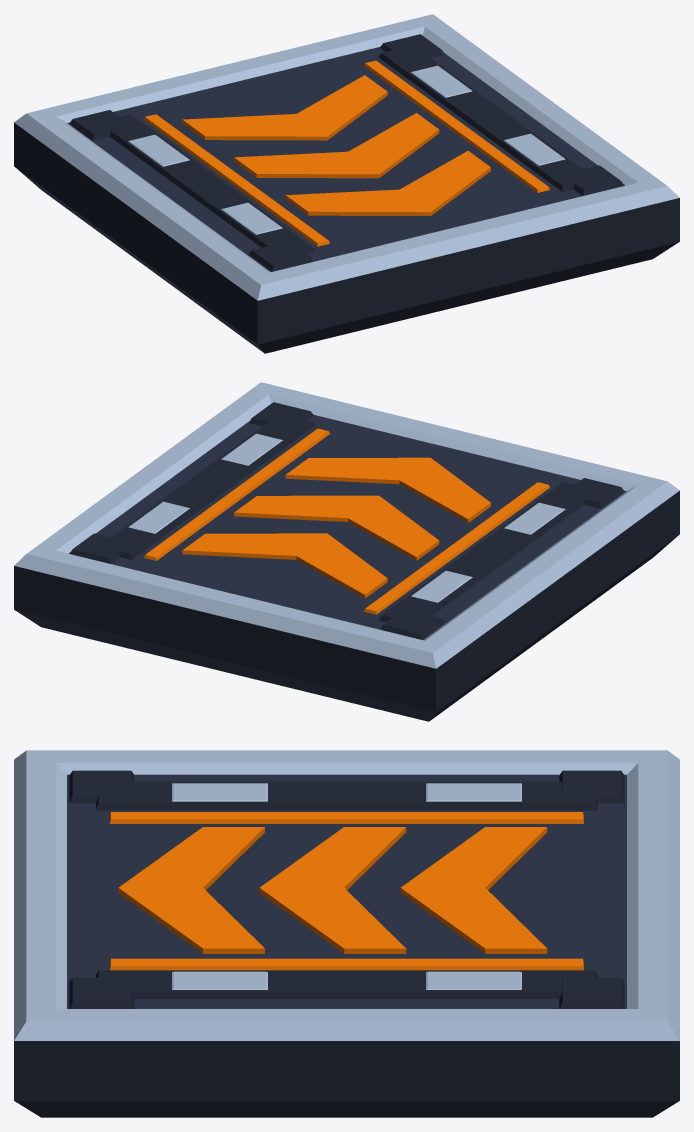
Rendered from SM_ArenaTile_05_BoostRunway.obj.
3 views of the same model, one above another, from view 1: azimuth 30°, elevation 25°; view 2: azimuth 150°, elevation 25°; view 3: azimuth 270°, elevation 25° (orthographic). The views are drawn at different scales.
Parts seen in each view (by area): view 1: SM_ArenaTile_05_BoostRunway__MAT_DarkNeutral, SM_ArenaTile_05_BoostRunway__MAT_LightTrim, SM_ArenaTile_05_BoostRunway__MAT_AltNeutral, SM_ArenaTile_05_BoostRunway__EMI_Kinetic; view 2: SM_ArenaTile_05_BoostRunway__MAT_DarkNeutral, SM_ArenaTile_05_BoostRunway__MAT_LightTrim, SM_ArenaTile_05_BoostRunway__MAT_AltNeutral, SM_ArenaTile_05_BoostRunway__EMI_Kinetic; view 3: SM_ArenaTile_05_BoostRunway__MAT_DarkNeutral, SM_ArenaTile_05_BoostRunway__MAT_LightTrim, SM_ArenaTile_05_BoostRunway__MAT_AltNeutral, SM_ArenaTile_05_BoostRunway__EMI_Kinetic.
Boxes of the visible parts, x1=… form: SM_ArenaTile_05_BoostRunway__MAT_DarkNeutral: x1=14, y1=34, x2=679, y2=353; SM_ArenaTile_05_BoostRunway__MAT_LightTrim: x1=14, y1=14, x2=679, y2=300; SM_ArenaTile_05_BoostRunway__MAT_AltNeutral: x1=67, y1=46, x2=624, y2=271; SM_ArenaTile_05_BoostRunway__EMI_Kinetic: x1=144, y1=60, x2=549, y2=246; SM_ArenaTile_05_BoostRunway__MAT_DarkNeutral: x1=14, y1=402, x2=679, y2=721; SM_ArenaTile_05_BoostRunway__MAT_LightTrim: x1=14, y1=382, x2=679, y2=668; SM_ArenaTile_05_BoostRunway__MAT_AltNeutral: x1=69, y1=414, x2=626, y2=639; SM_ArenaTile_05_BoostRunway__EMI_Kinetic: x1=144, y1=428, x2=549, y2=614; SM_ArenaTile_05_BoostRunway__MAT_DarkNeutral: x1=14, y1=770, x2=679, y2=1117; SM_ArenaTile_05_BoostRunway__MAT_LightTrim: x1=14, y1=750, x2=679, y2=1040; SM_ArenaTile_05_BoostRunway__MAT_AltNeutral: x1=67, y1=774, x2=626, y2=1008; SM_ArenaTile_05_BoostRunway__EMI_Kinetic: x1=110, y1=812, x2=583, y2=970.
Size of the model in its own units: 11.8 by 2 by 11.8.
Materials: 4 (4 with a texture image).
